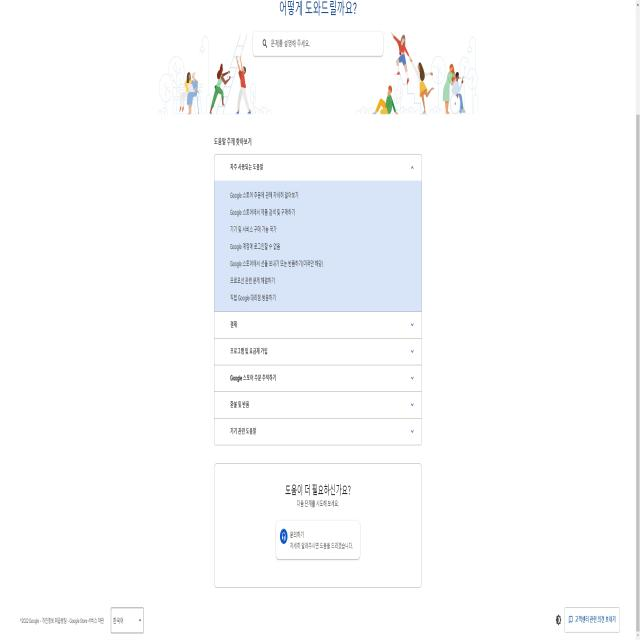search: (254, 33, 386, 55)
tab-bar: (214, 156, 420, 450)
